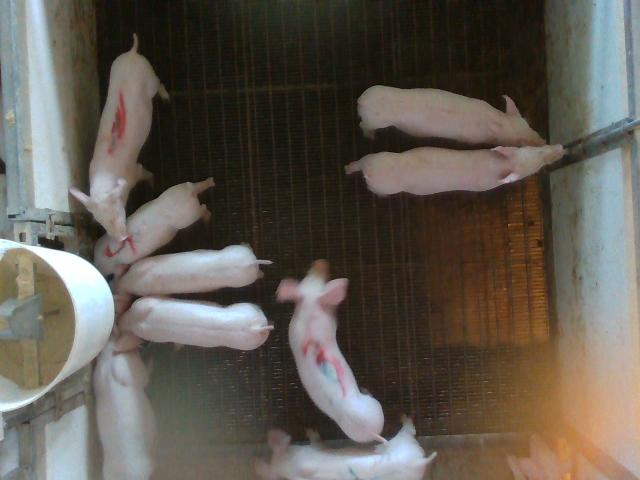pig-1: (70, 35, 169, 242)
pig-3: (275, 259, 385, 442)
pig-5: (94, 178, 215, 276)
